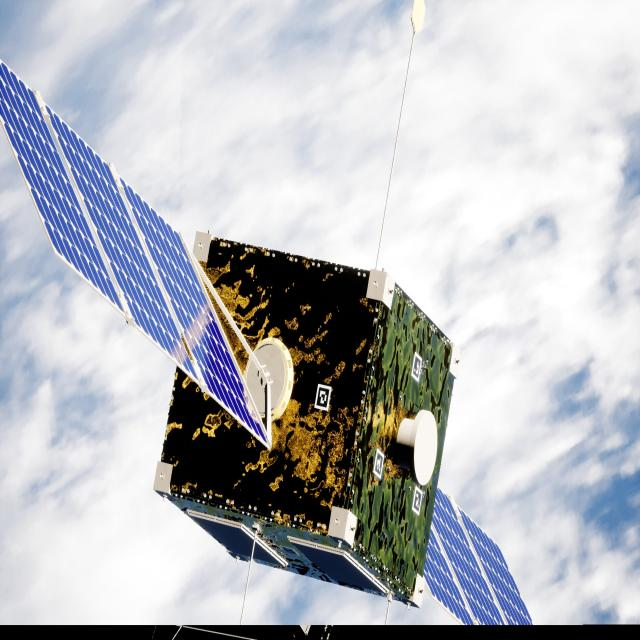medium_debris: (0, 60, 530, 625)
